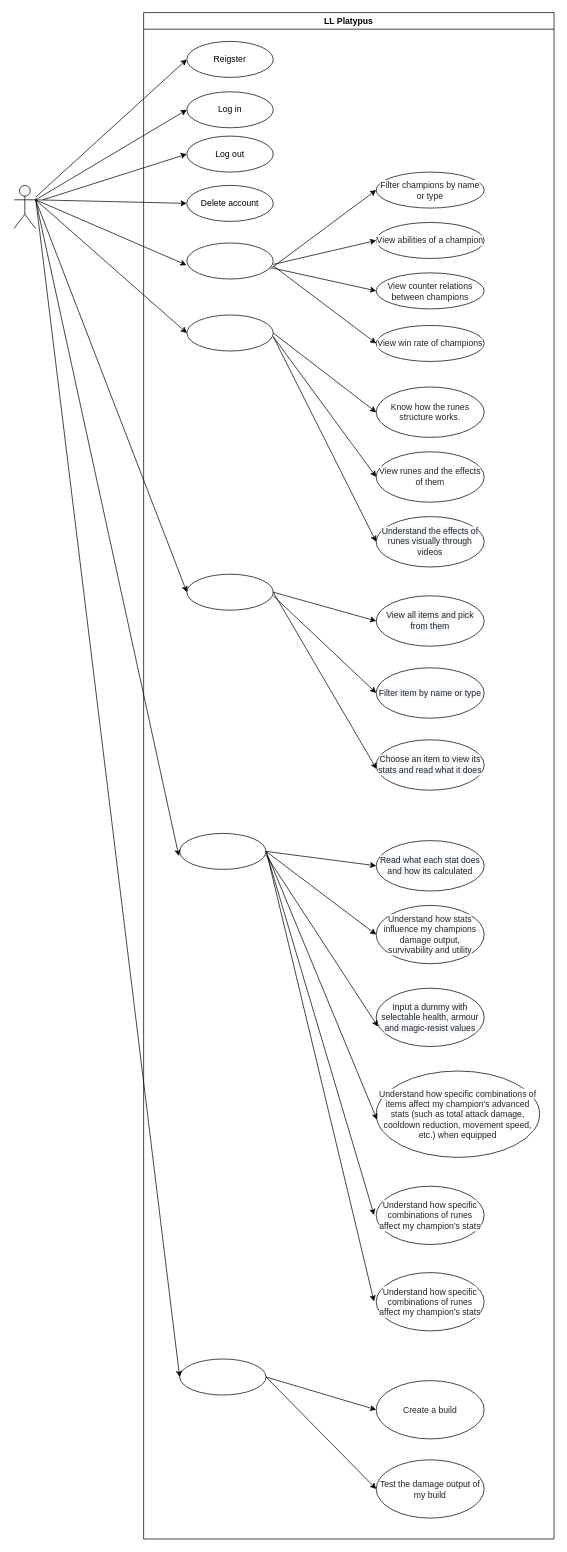
This 567x1552 diagram has some shape labels left out. The shapes that lost their labels are listed below. From the top down, each one's centre as x and y in pixels, then its label:
At [24,207]: "Player".
At [229,260]: "View champions".
At [229,332]: "View runes".
At [229,591]: "View items".
At [222,851]: "View stats".
At [222,1376]: "Build management".
